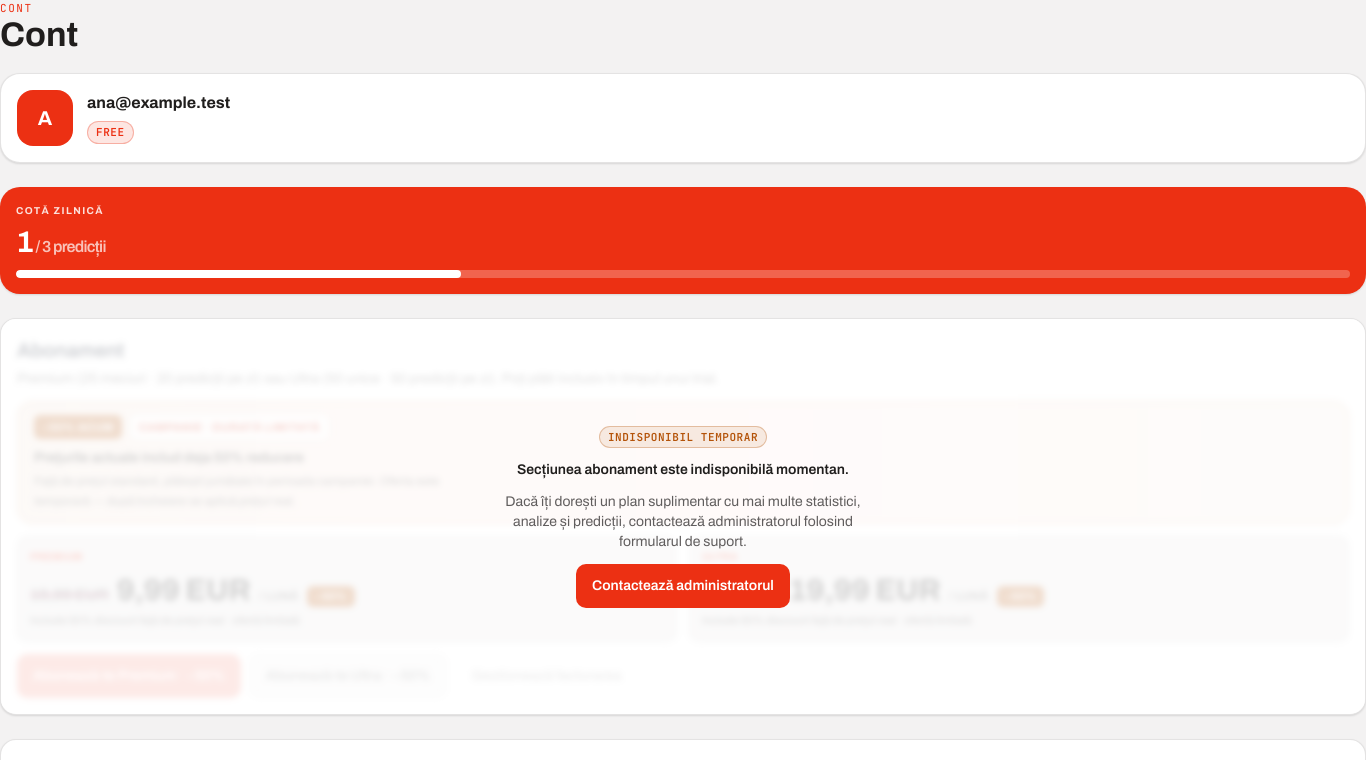
the support CTA › opens the existing support dialog rather than navigating away
Click the button "Contactează administratorul": (683, 586) [576,564,790,608]
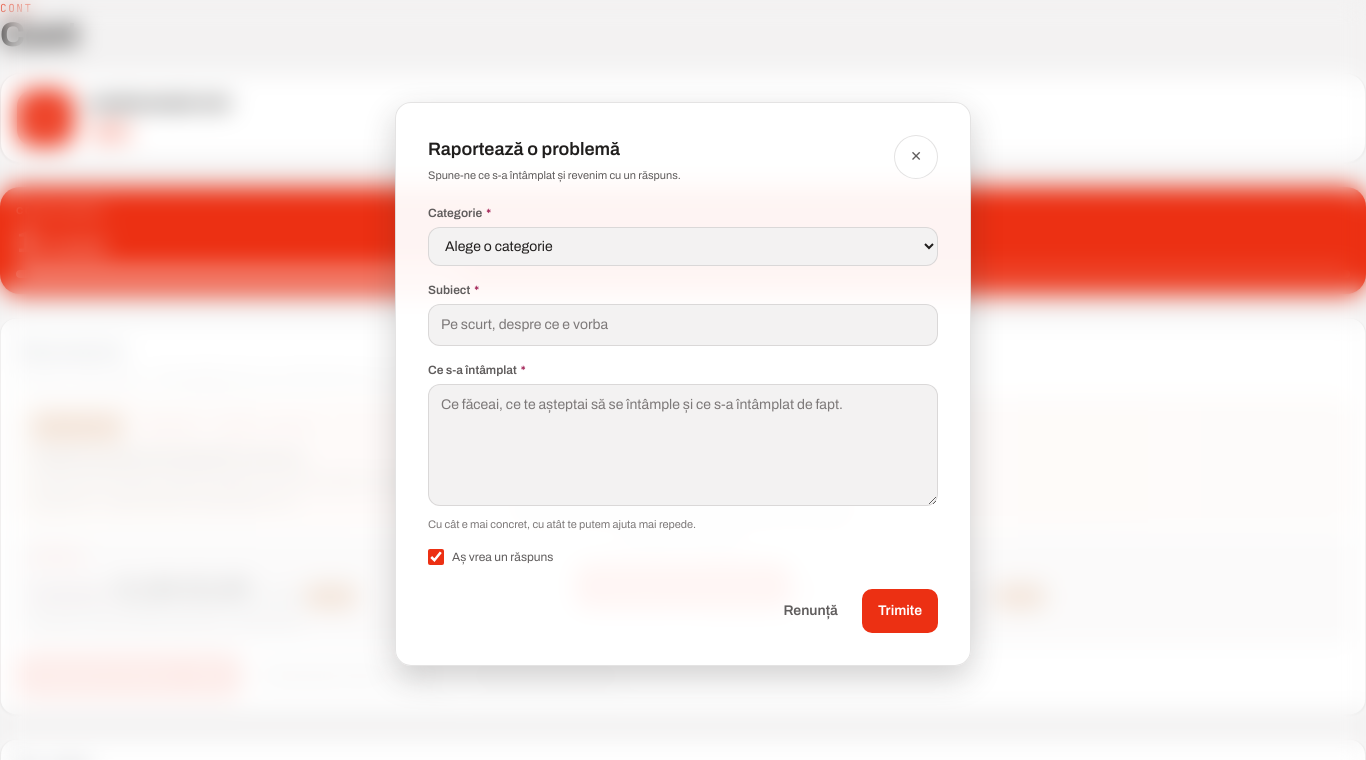
Expected: the dialog is shown, [395,102,971,666]
